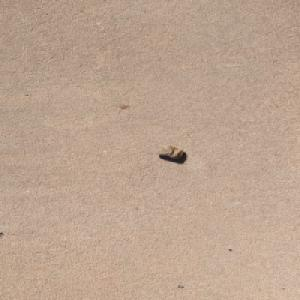Rock: (154, 144, 184, 159)
